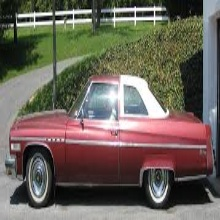no damage: (7, 74, 215, 211)
